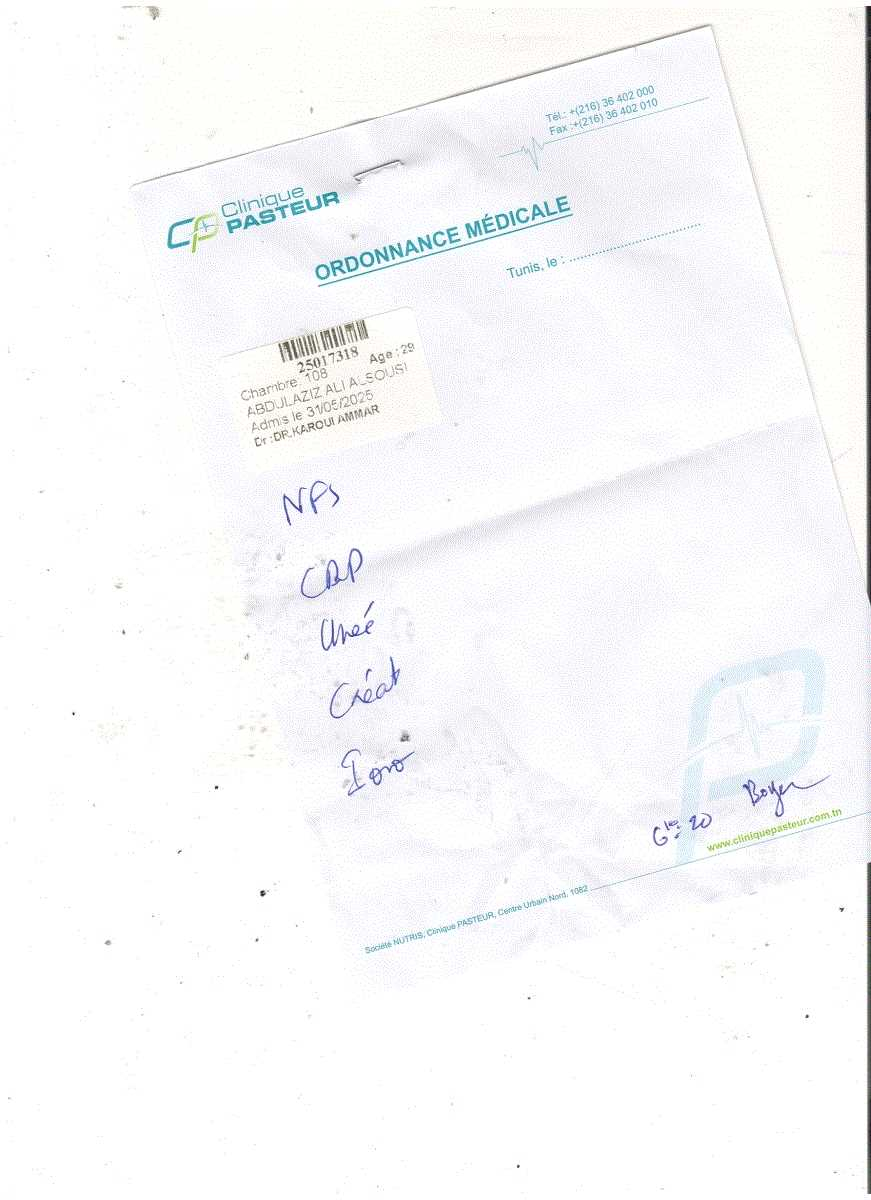zone_analyses: (178, 503, 754, 980)
zone_date: (299, 411, 392, 423)
zone_patient: (240, 406, 423, 424)
zone_prescripteur: (363, 942, 867, 980), (250, 438, 388, 453)
